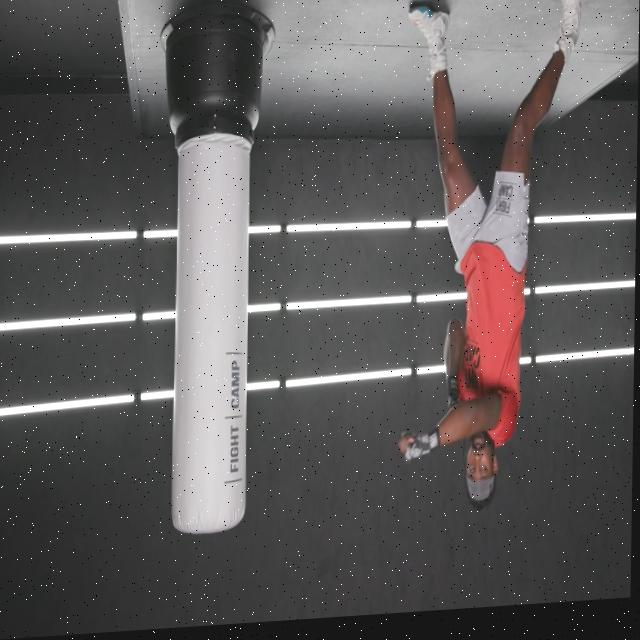Cross: (370, 0, 592, 482)
